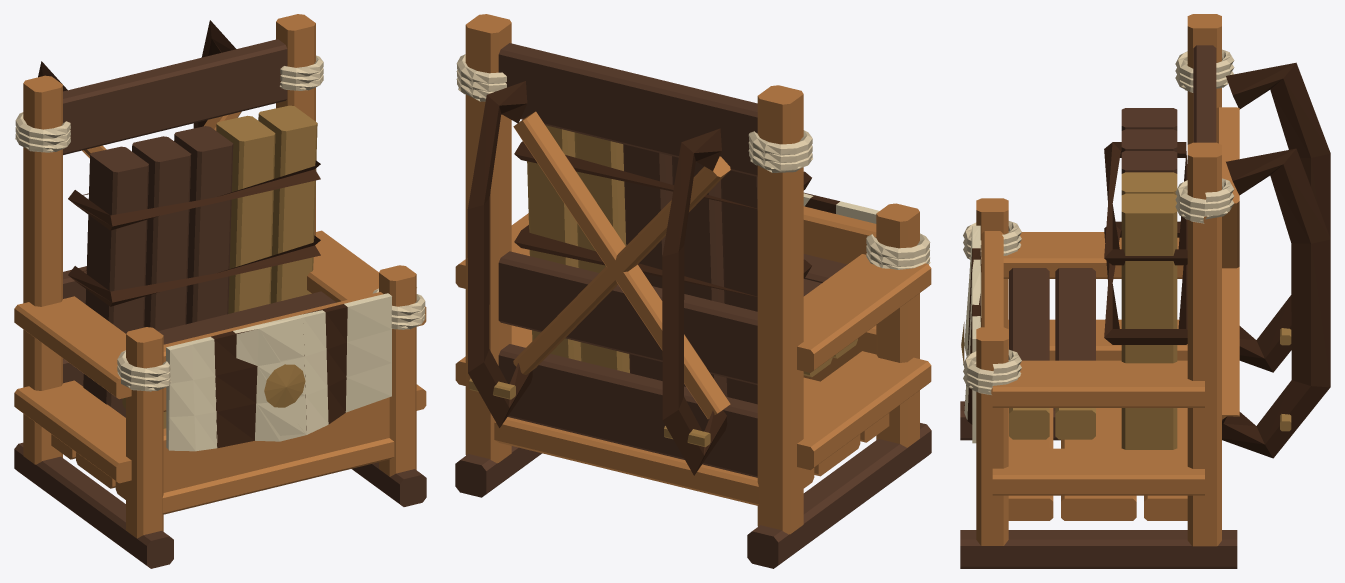
File: prop_trade_pack_workshop_a.glb
3 renders of one model, left to right at view 1: azimuth 30°, elevation 25°; view 2: azimuth 150°, elevation 25°; view 3: azimuth 270°, elevation 25°, orthographic. The views are drawn at different scales.
Parts seen in each view (by area): view 1: prop_trade_pack_workshop_a_freight_0, prop_trade_pack_workshop_a_freight_1; view 2: prop_trade_pack_workshop_a_freight_0, prop_trade_pack_workshop_a_freight_1; view 3: prop_trade_pack_workshop_a_freight_0, prop_trade_pack_workshop_a_freight_1.
Boxes of the visible parts, box(x1,y1,x2,y2) form: prop_trade_pack_workshop_a_freight_0: box(14, 14, 426, 568); prop_trade_pack_workshop_a_freight_1: box(15, 80, 423, 448); prop_trade_pack_workshop_a_freight_0: box(455, 14, 931, 568); prop_trade_pack_workshop_a_freight_1: box(458, 87, 930, 264); prop_trade_pack_workshop_a_freight_0: box(960, 14, 1330, 568); prop_trade_pack_workshop_a_freight_1: box(964, 82, 1227, 443).
Bounding box in the file's own units: 0.81 × 0.99 × 0.8028.
